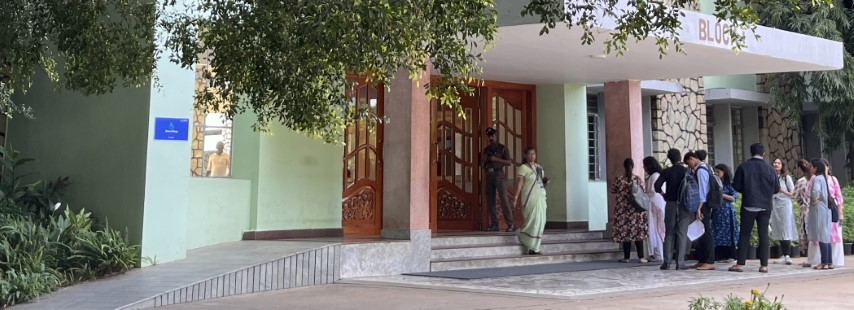Block 1: (114, 1, 854, 310)
